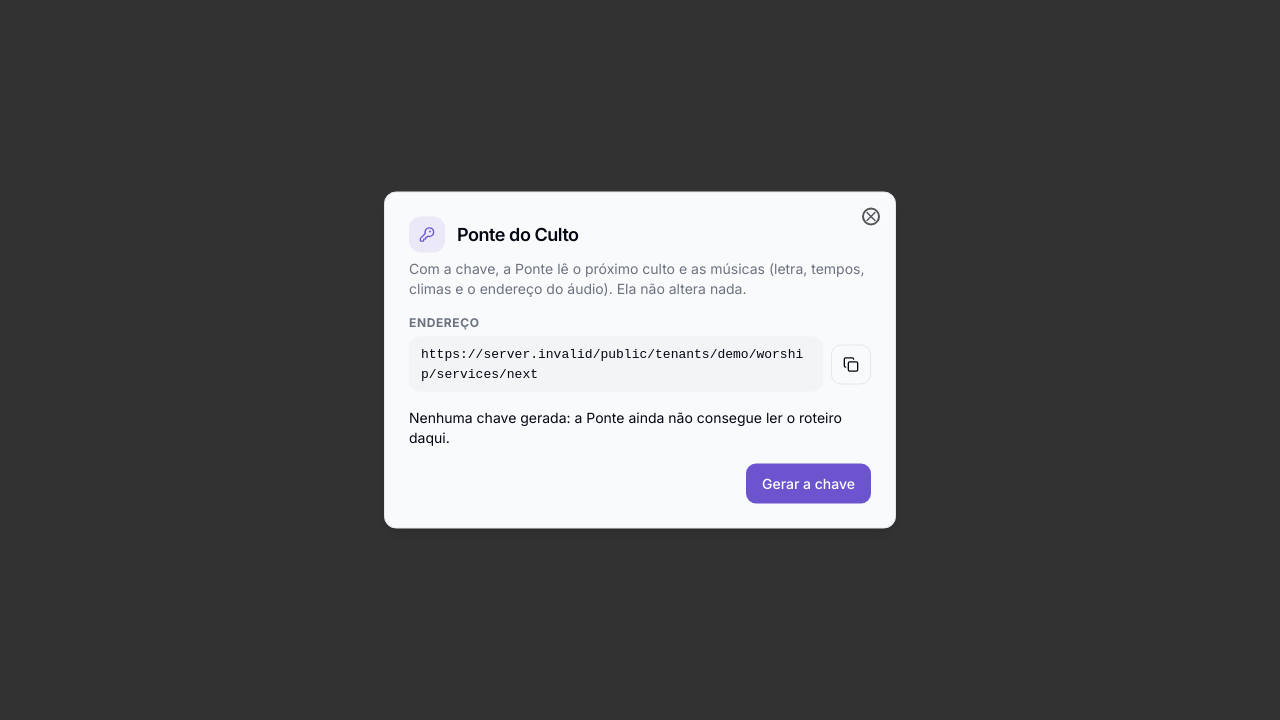
Test: PonteKeyDialog › sem chave: gerar mostra a chave uma vez, com o endereço que a Ponte consulta
Check: the text "Nenhuma chave gerada" is shown, box x1=409 y1=408 x2=842 y2=446
Check: the button "Revogar" is not shown
Click the button "Gerar a chave": (808, 484) x1=746 y1=464 x2=871 y2=504
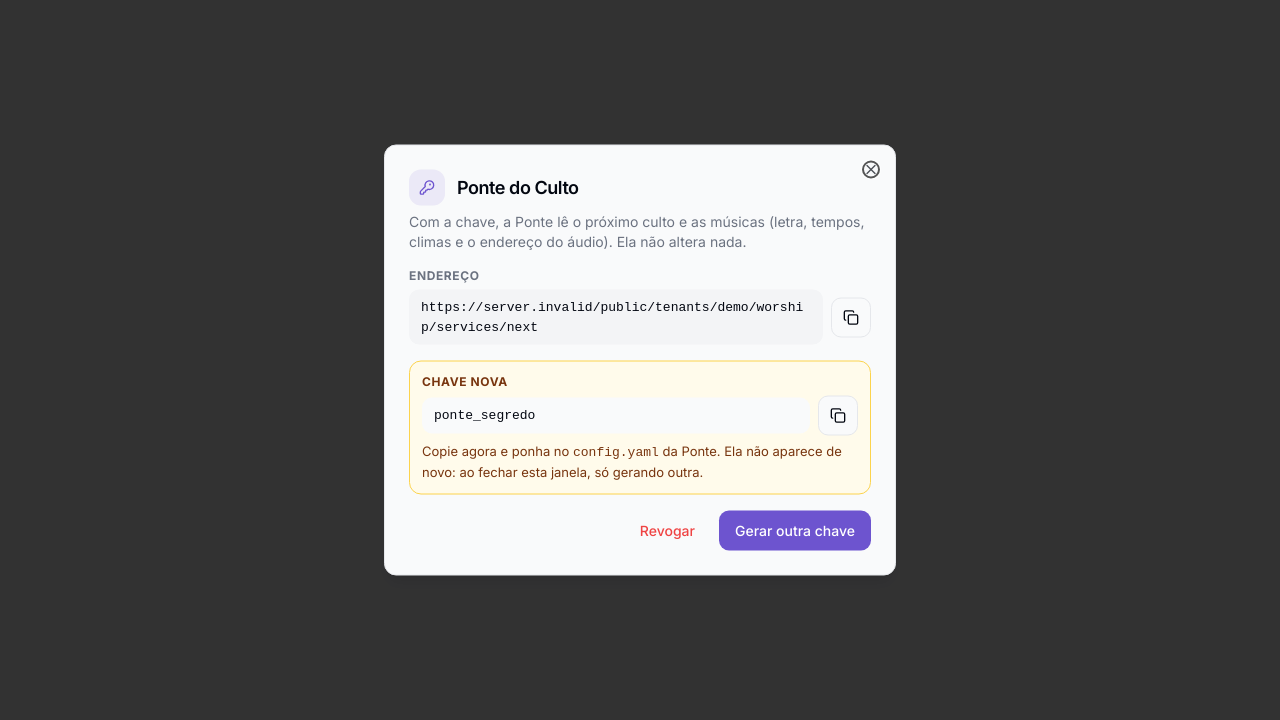
Check: the text "ponte_segredo" is shown, box x1=422 y1=398 x2=810 y2=433
Check: the text "não aparece de novo" is shown, box x1=422 y1=442 x2=842 y2=479
